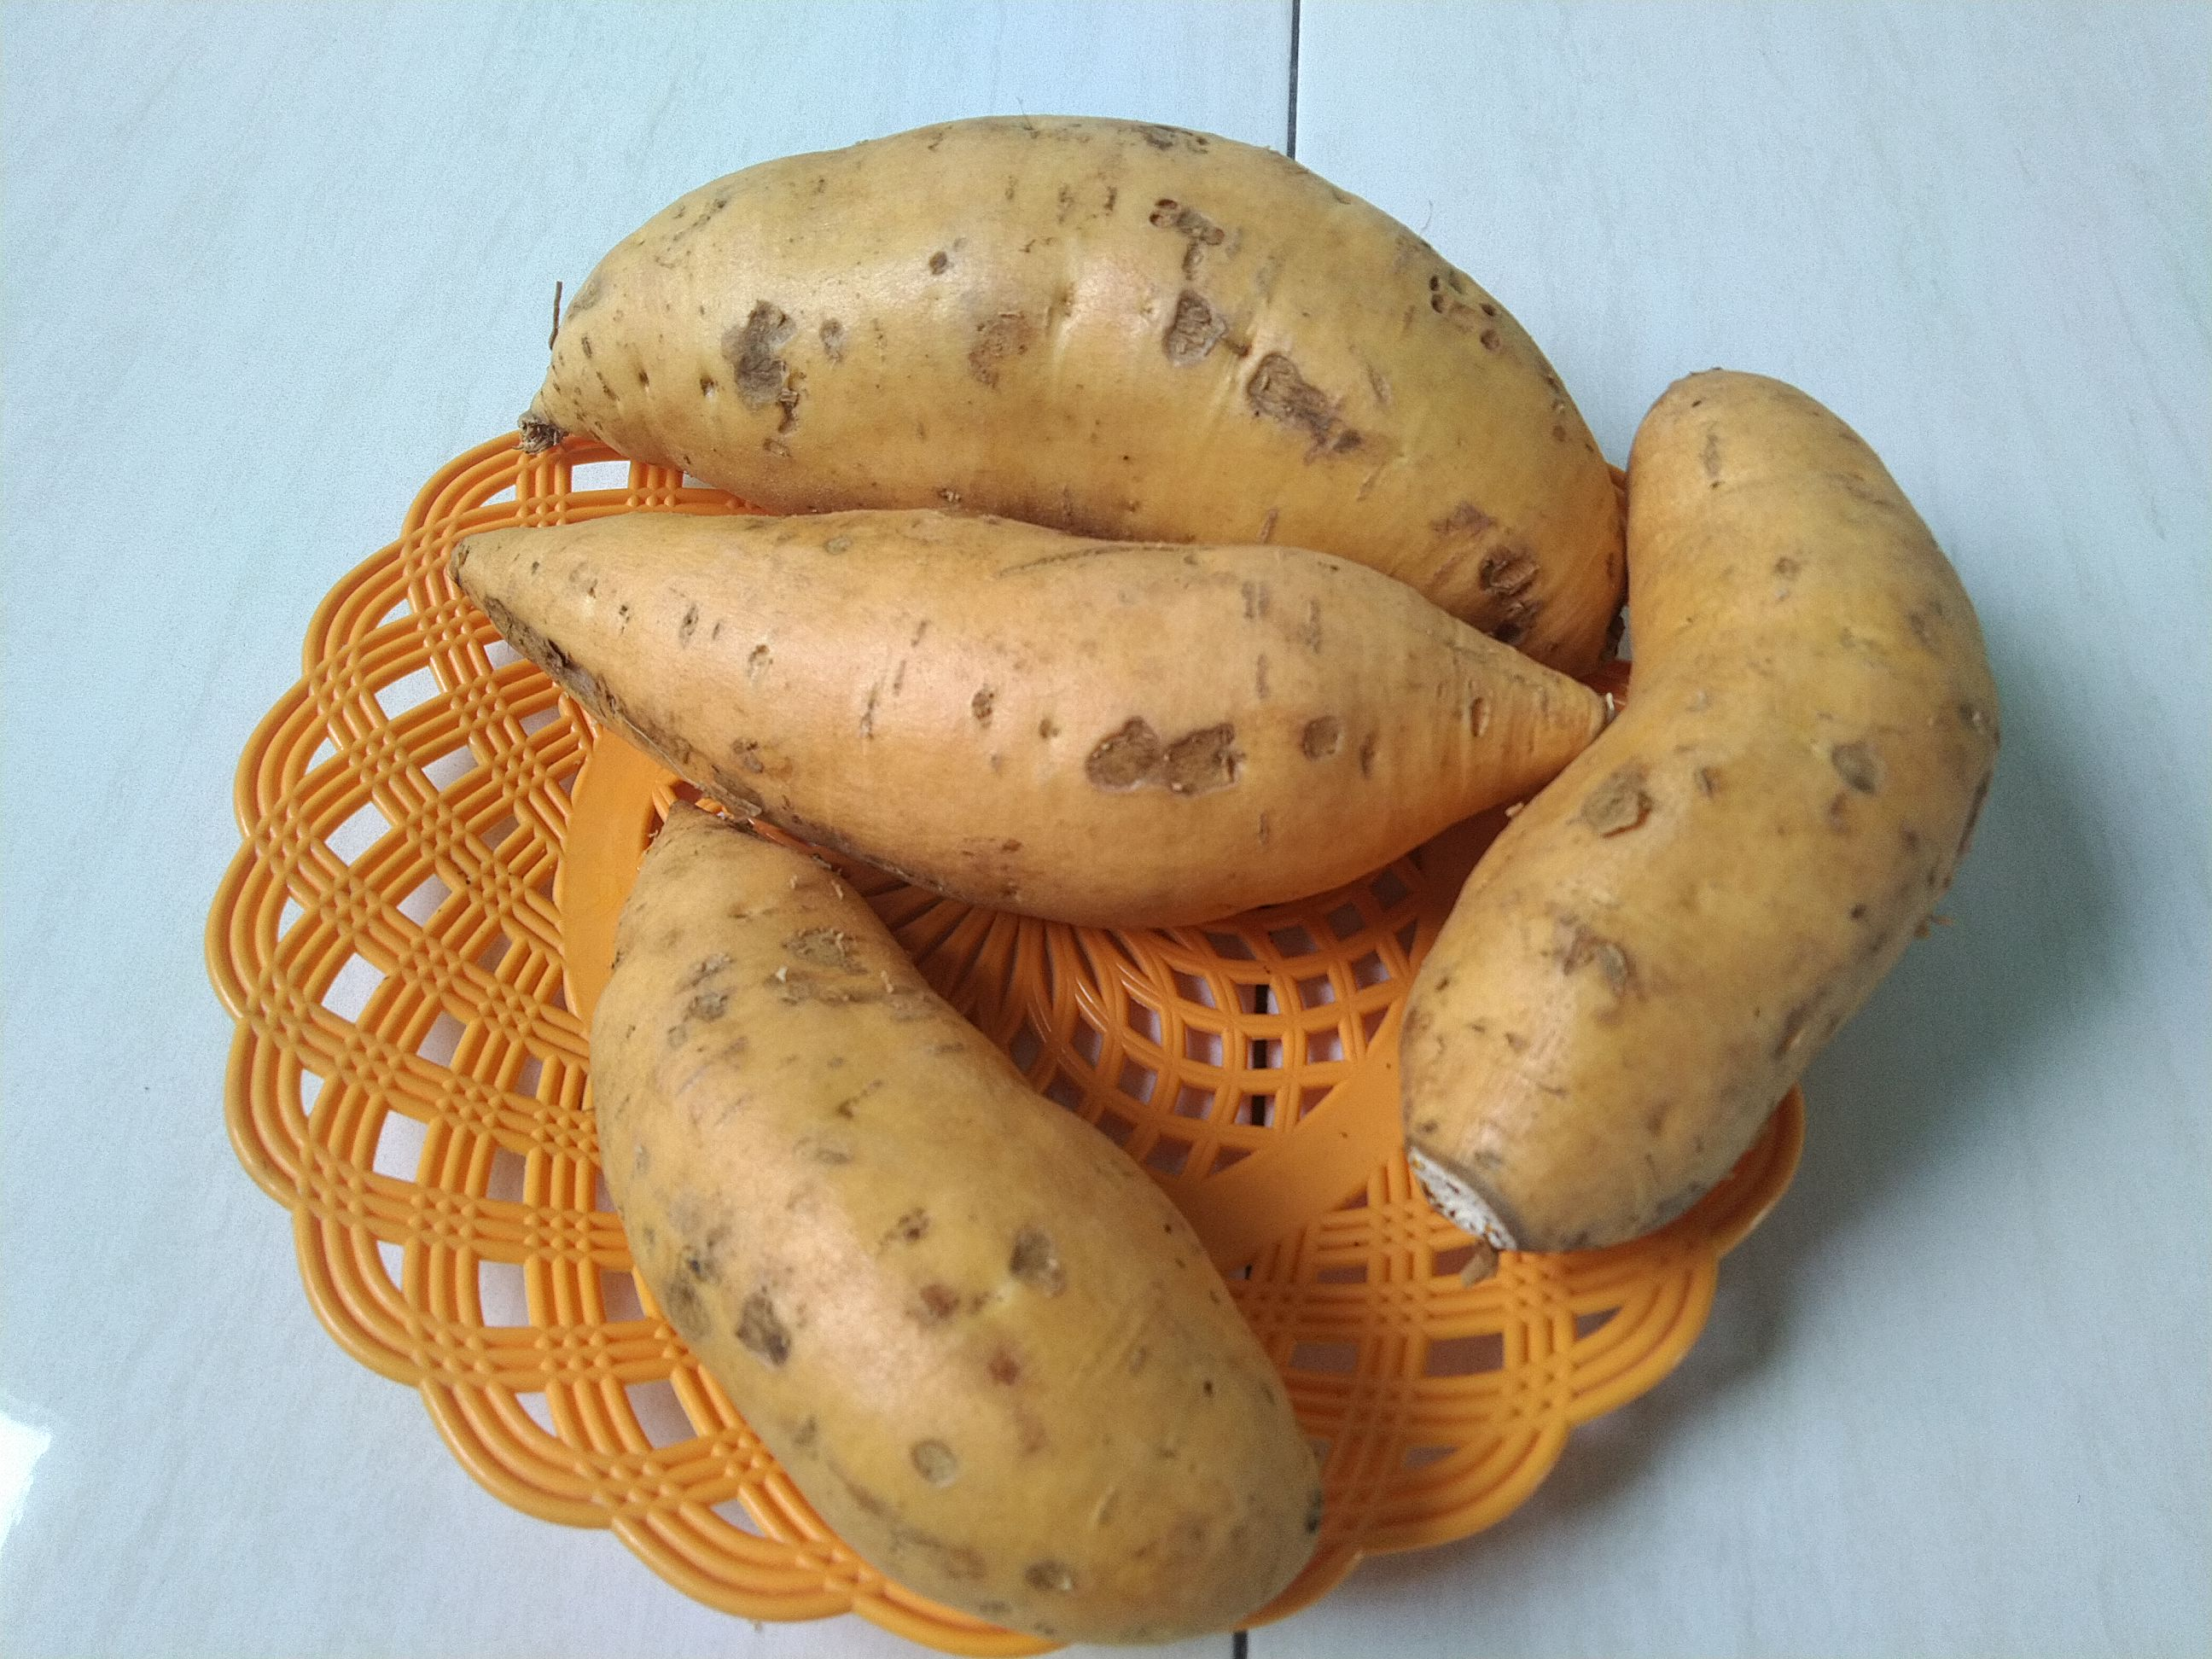ubi cilembu: (512, 99, 1670, 704), (578, 788, 1359, 1635), (1388, 354, 2013, 1262), (434, 500, 1641, 896)
